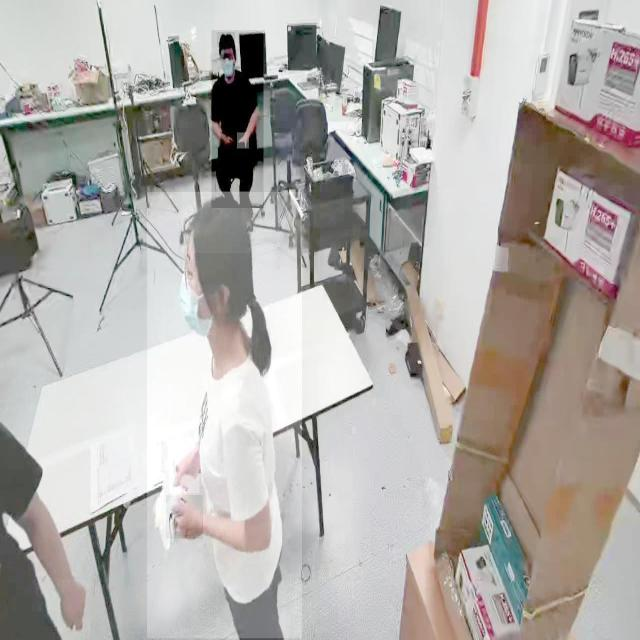face_mask: (172, 264, 218, 353), (218, 49, 238, 79)
hand_noglove: (58, 580, 92, 632), (166, 495, 204, 540), (169, 444, 200, 494), (220, 132, 234, 148), (237, 132, 249, 150)
head_nohelmet: (182, 191, 252, 254), (217, 32, 235, 48)
person: (147, 192, 303, 639), (212, 30, 264, 208)
